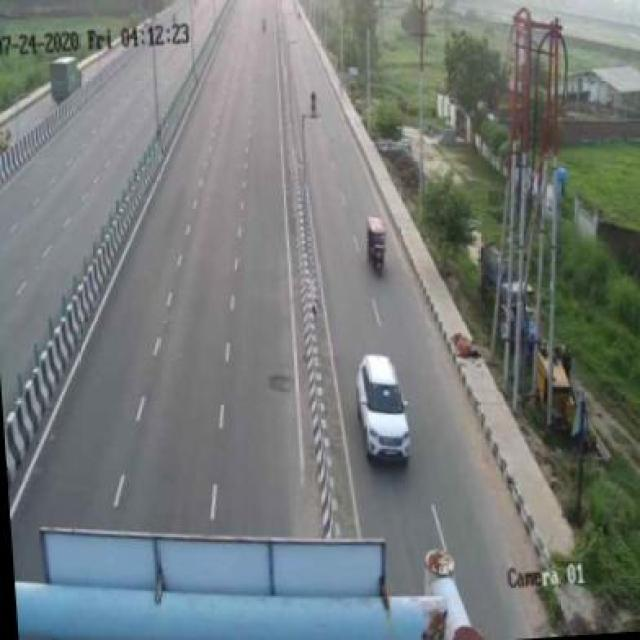car: (346, 336, 421, 467)
